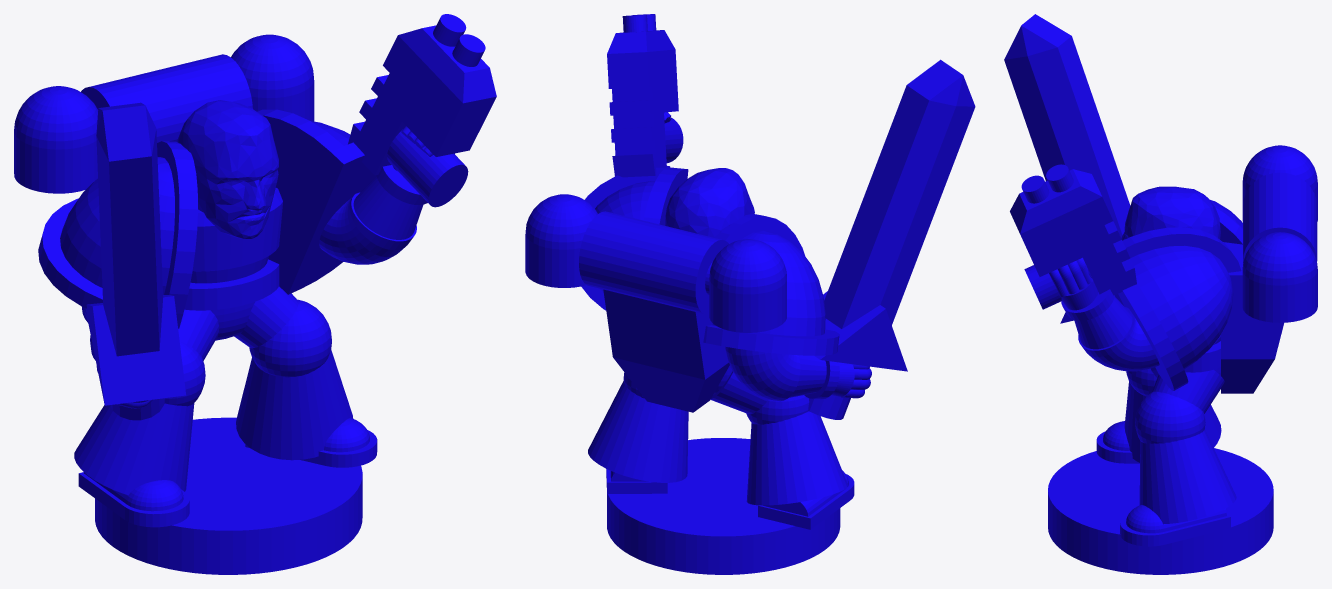
The model's file is cptblau.fbx.
The picture shows the model from 3 angles, left to right: view 1: azimuth 30°, elevation 25°; view 2: azimuth 150°, elevation 25°; view 3: azimuth 270°, elevation 25°; orthographic projection. The views are drawn at different scales.
Parts seen in each view (by area): view 1: Spacemarine Captain; view 2: Spacemarine Captain; view 3: Spacemarine Captain.
Part boxes in pixels (x1,y1,x2,y2): Spacemarine Captain: [14, 14, 496, 574]; Spacemarine Captain: [525, 14, 975, 574]; Spacemarine Captain: [1004, 14, 1317, 574].
Size of the model in its own units: 923 by 1166 by 765.
Materials: 1 (1 with a texture image).
